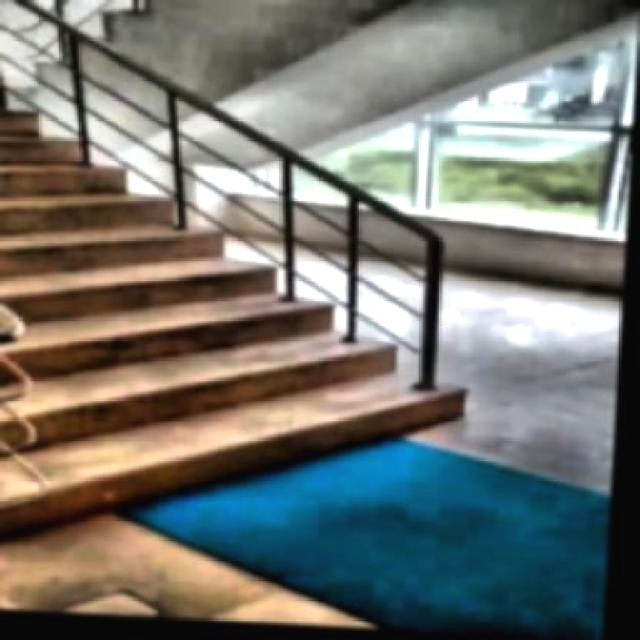stair: (1, 40, 530, 569)
